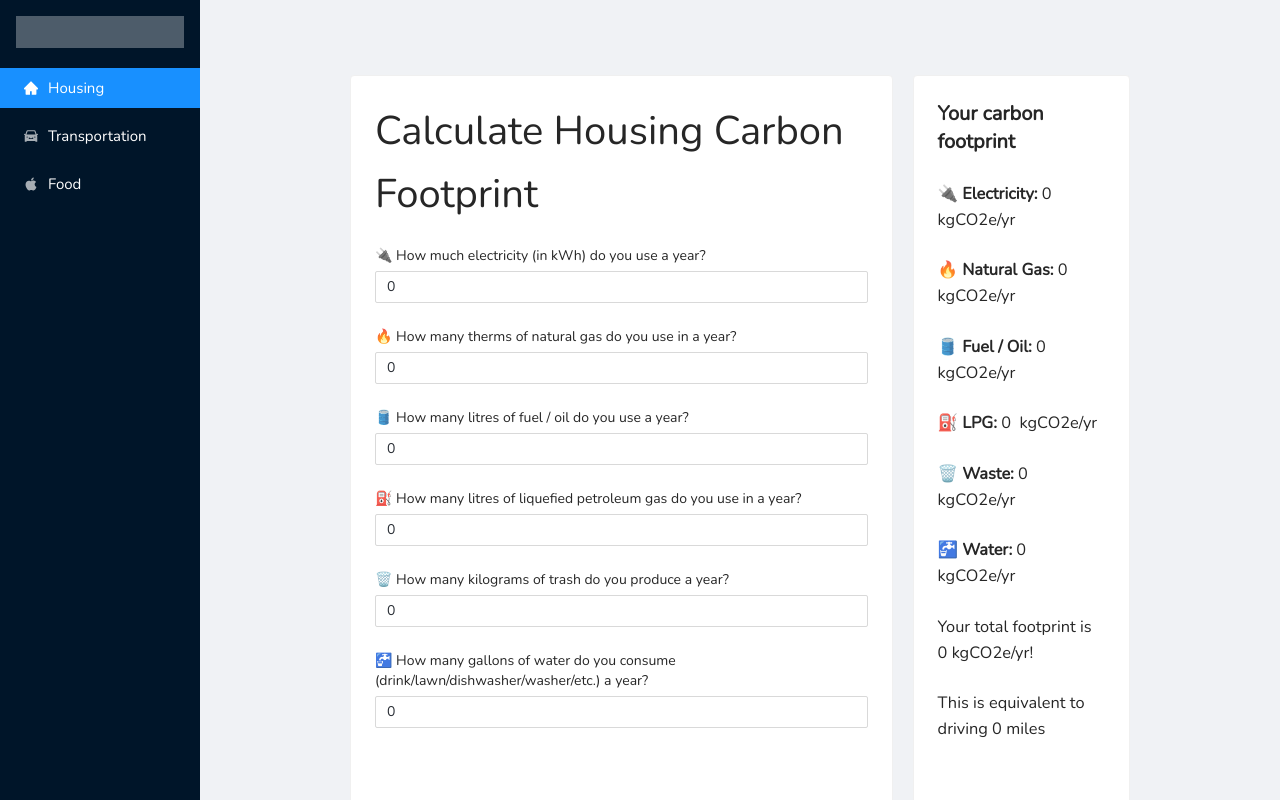
Test: full app rendering/navigating
Expected: the heading "Calculate Housing Carbon Footprint" is shown, [375, 100, 868, 226]
Note: verify page content for expected route after navigating
Click the link "transportation" at (97, 136), box [48, 126, 147, 146]
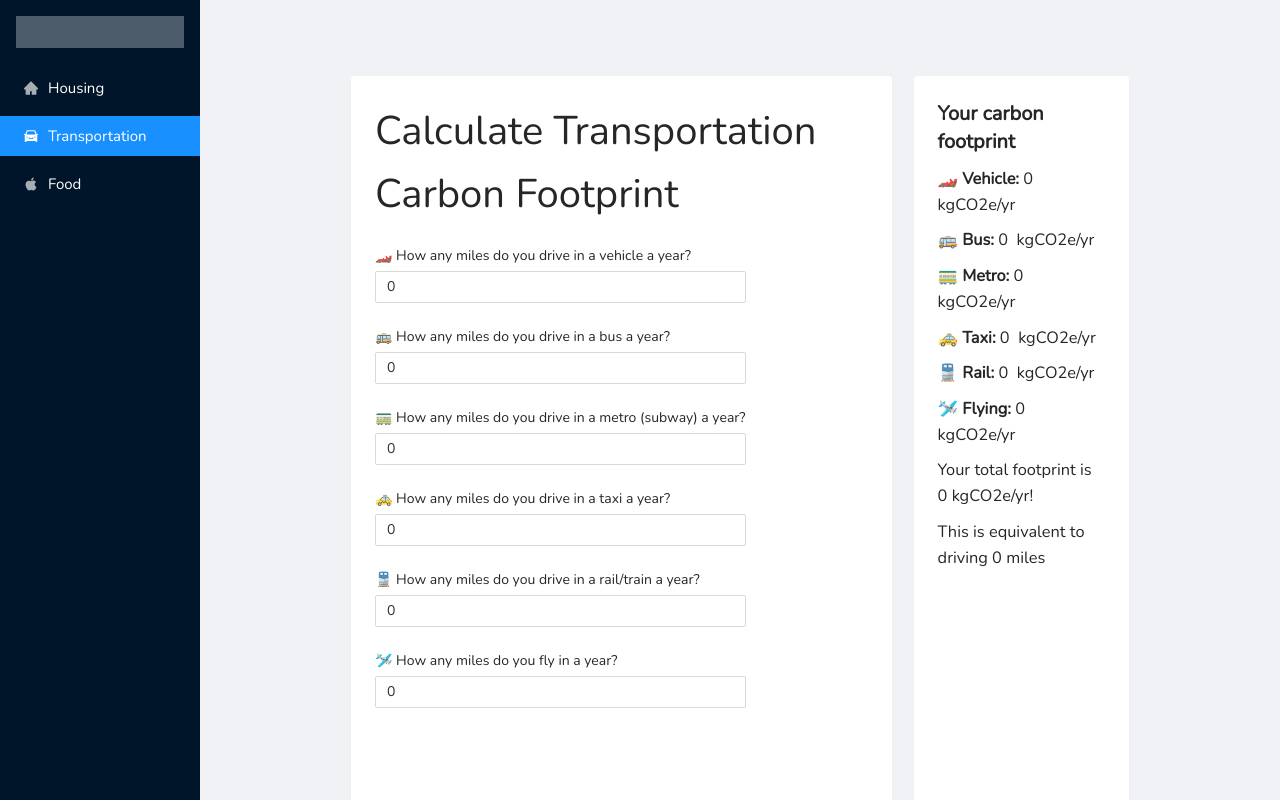
Expected: the heading "Calculate Transportation Carbon Footprint" is shown, [375, 100, 868, 226]
Note: verify page content for expected route after navigating
Click the link "food" at (65, 184), box [48, 174, 81, 194]
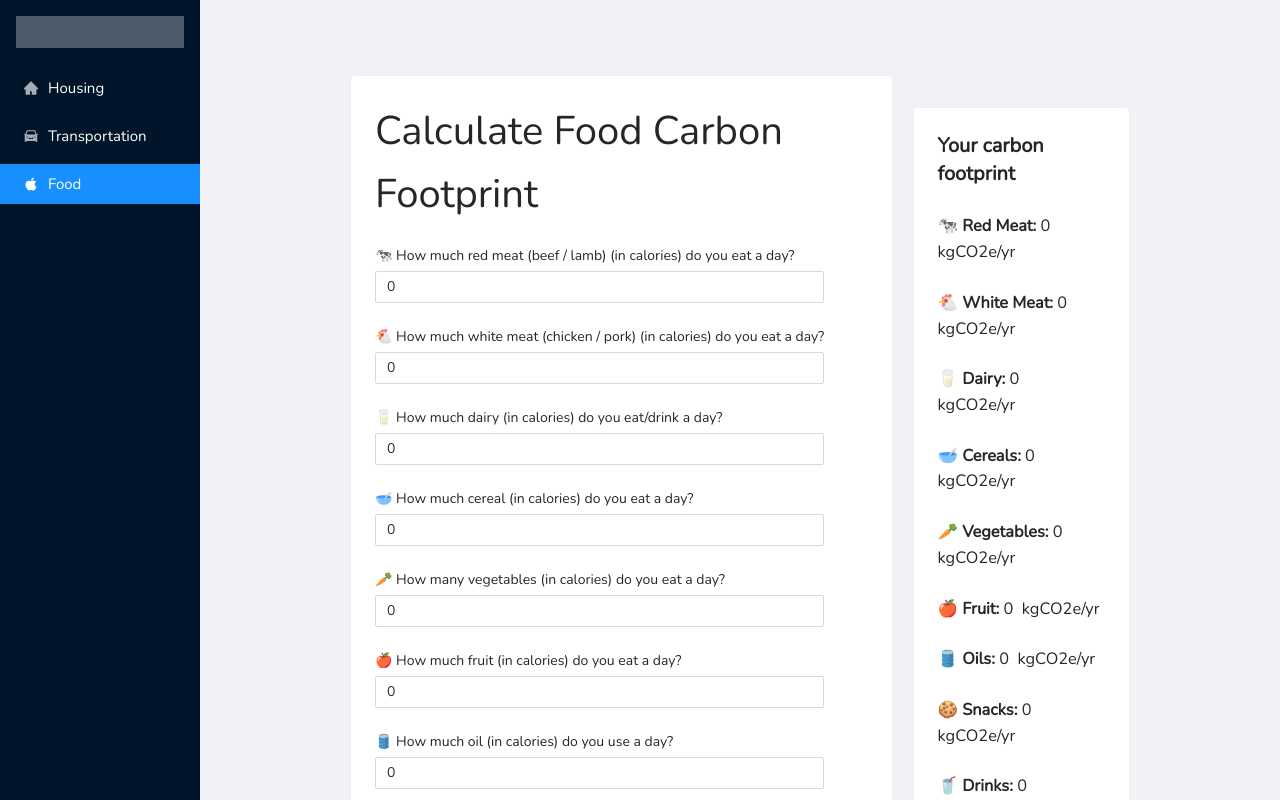
Expected: the heading "Calculate Food Carbon Footprint" is shown, [375, 104, 783, 221]
